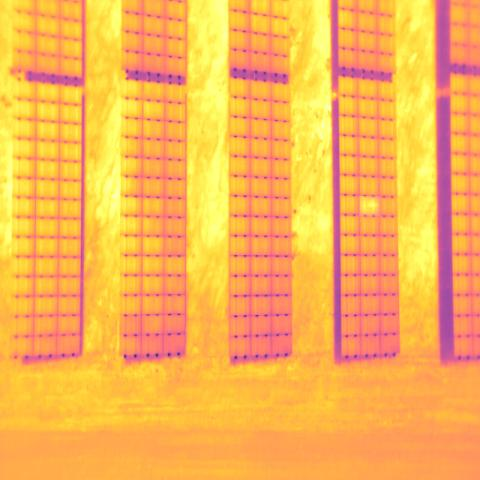fault: (359, 196, 380, 216)
